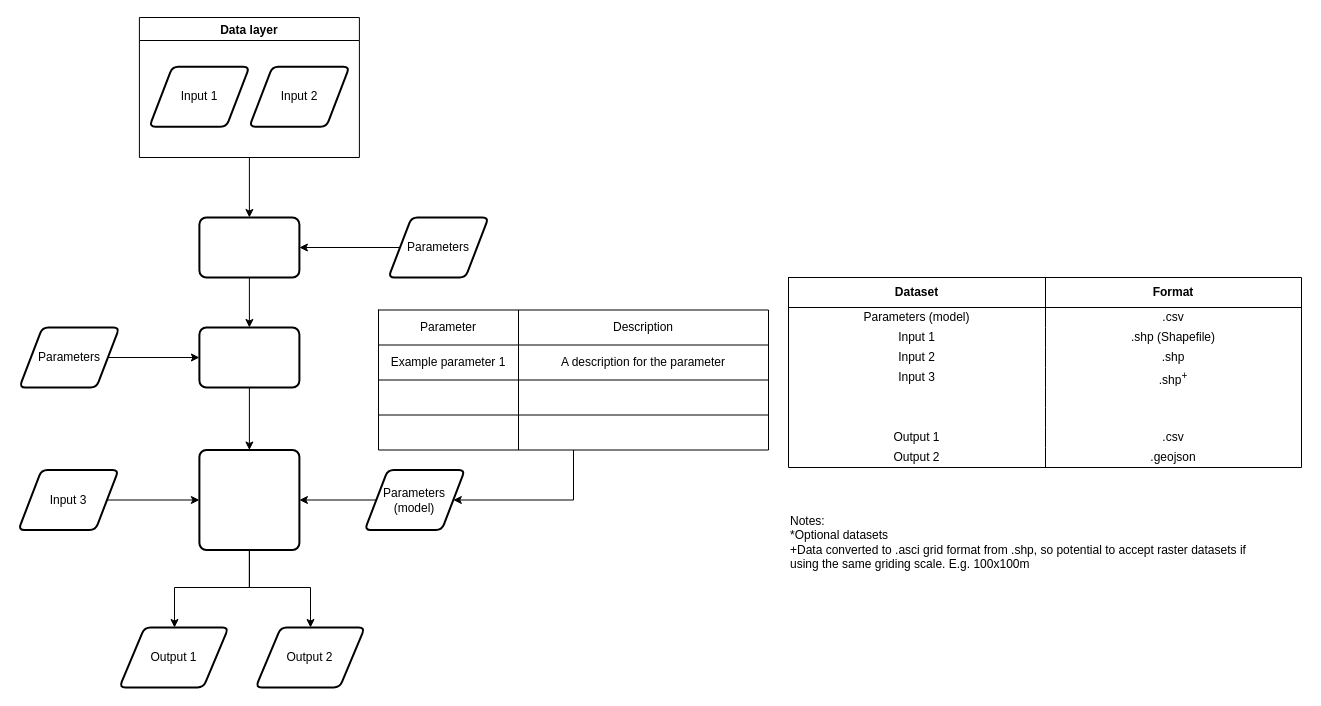
This 1321x706 diagram has some shape labels left out. Each missing label, with the centre of its shape:
A process: point 249,247
Format convertor: point 249,357
Model: point 249,499
